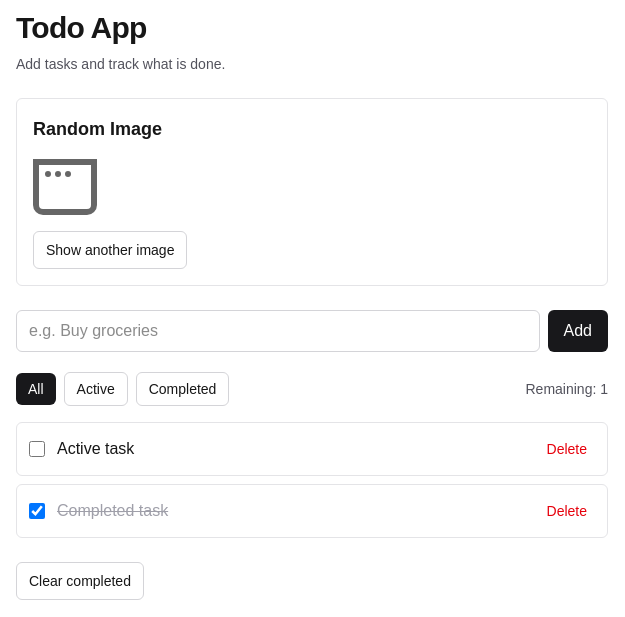
Test: Home › deletes one todo and clears completed todos
Expected: the list item "Active task" is shown, [57,440,134,457]
Click the button "Delete" in the row of "Active task".
click(567, 449)  # box [538,435,595,463]
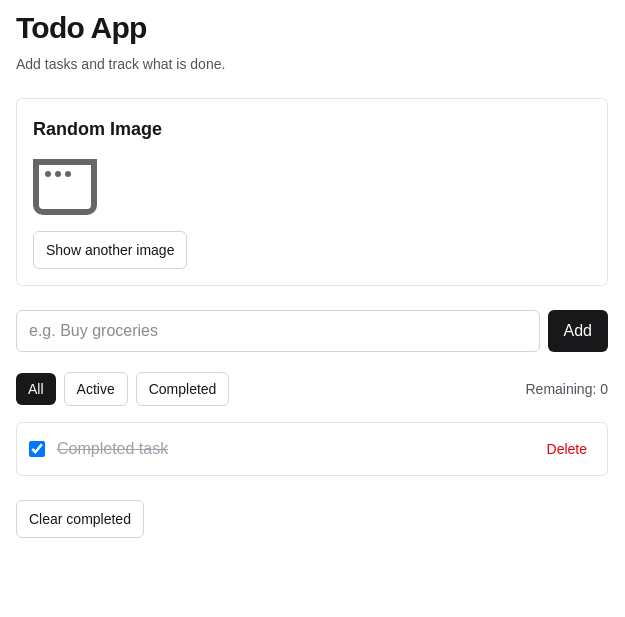
Expected: the text "Active task" is gone
Click the button "Clear completed".
click(80, 519)  # box [16,500,144,538]
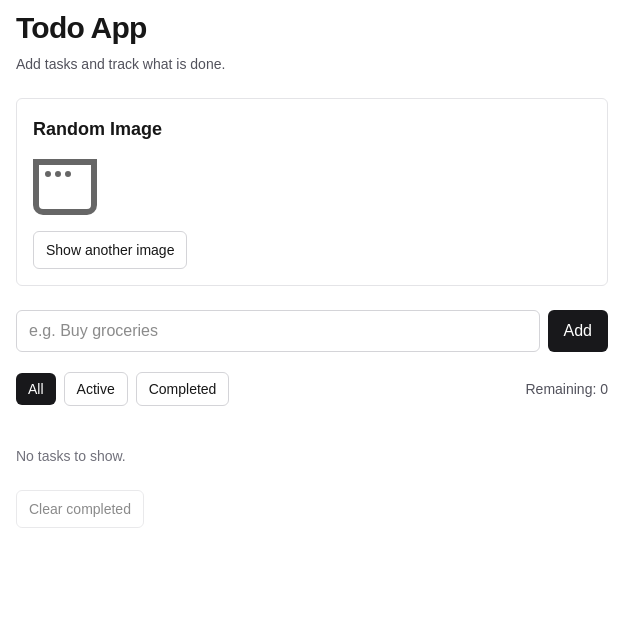
Expected: the text "Completed task" is gone
Expected: the text "No tasks to show." is shown, [16,448,126,464]
